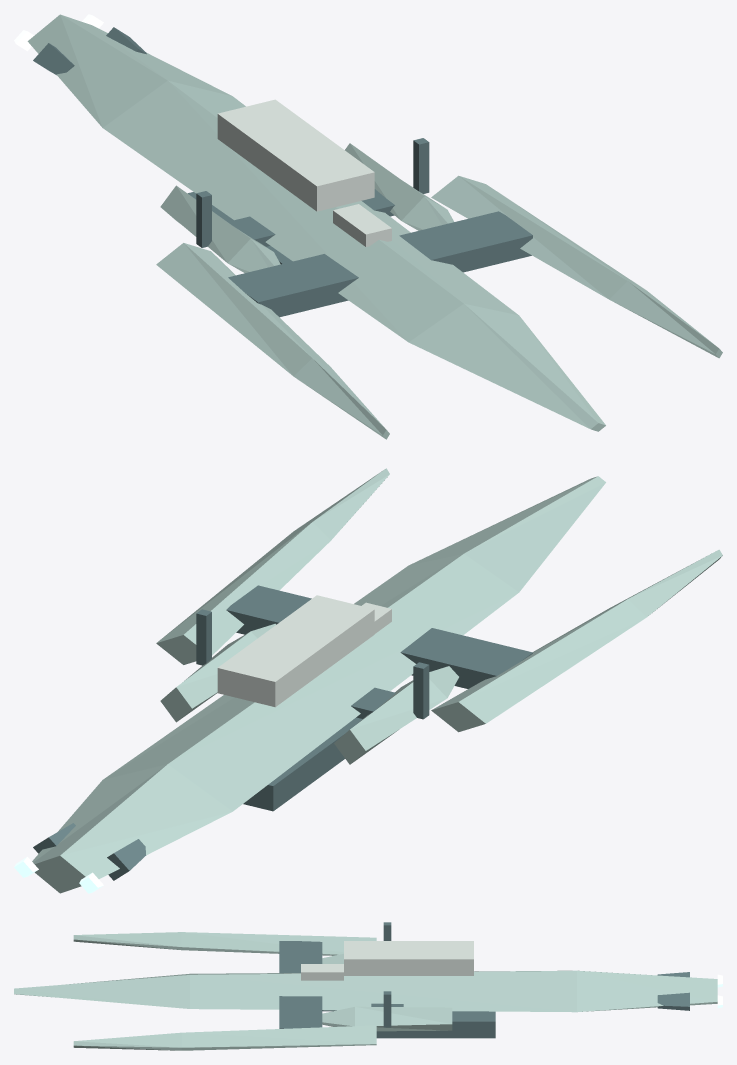
3 views of the same model, one above another, from view 1: azimuth 30°, elevation 25°; view 2: azimuth 150°, elevation 25°; view 3: azimuth 270°, elevation 25° (orthographic). The views are drawn at different scales.
Size of the model in its own units: 5.61 by 1.73 by 14.93.
